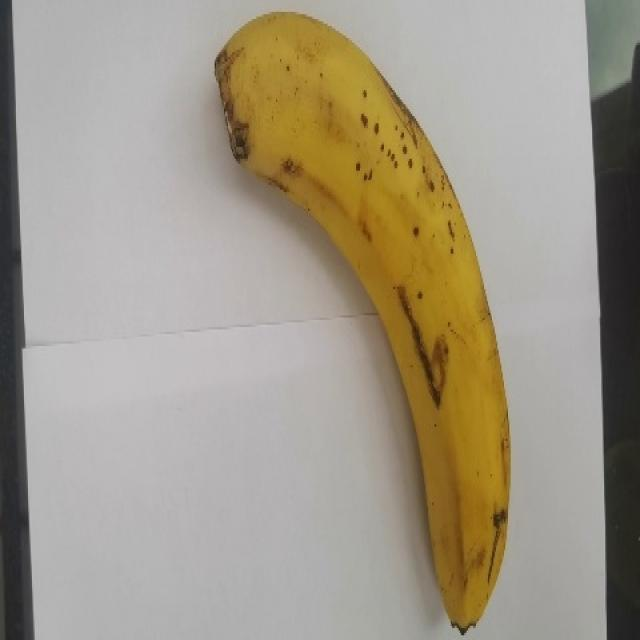Banana: (213, 10, 511, 634)
